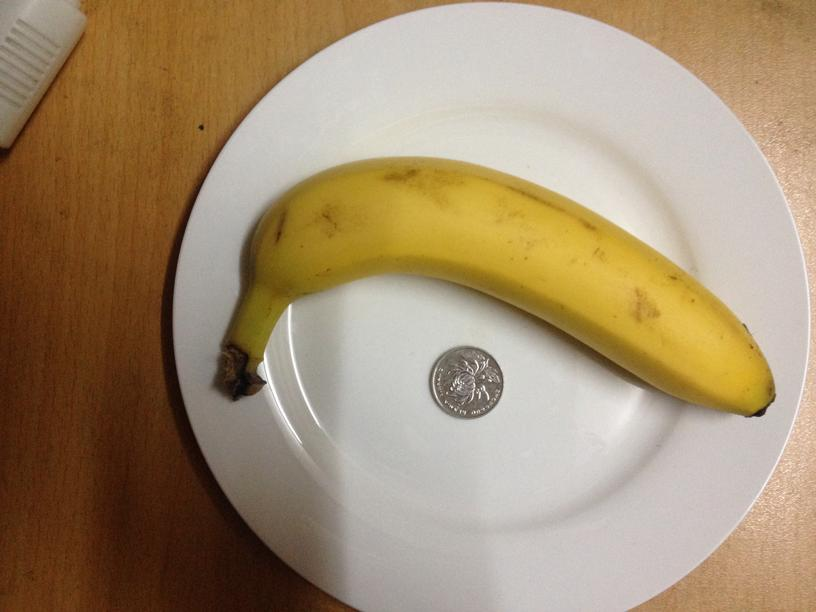banana: (239, 164, 776, 417)
coin: (427, 344, 502, 417)
